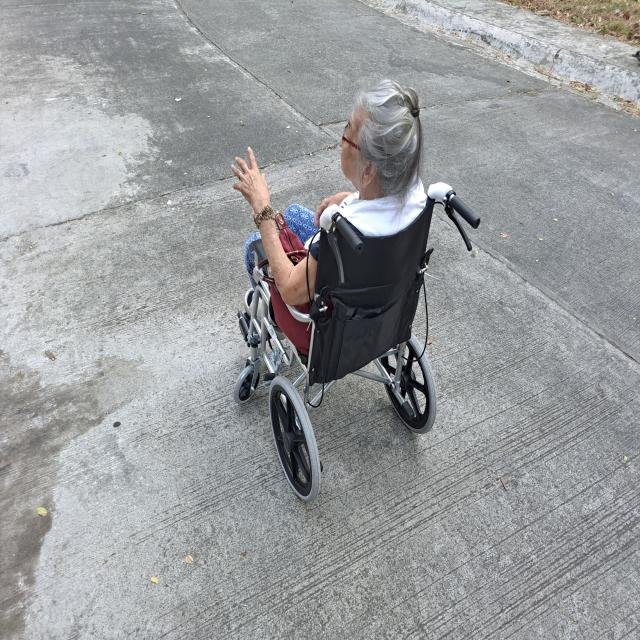wheelchairs: (232, 180, 482, 510)
